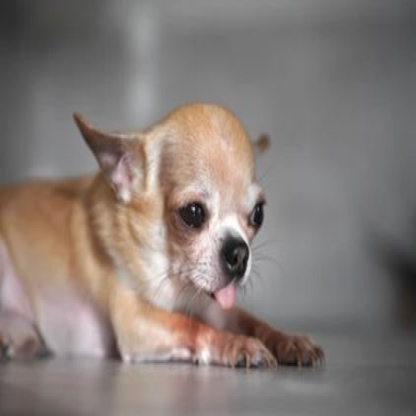chihuahua: (3, 99, 330, 373)
